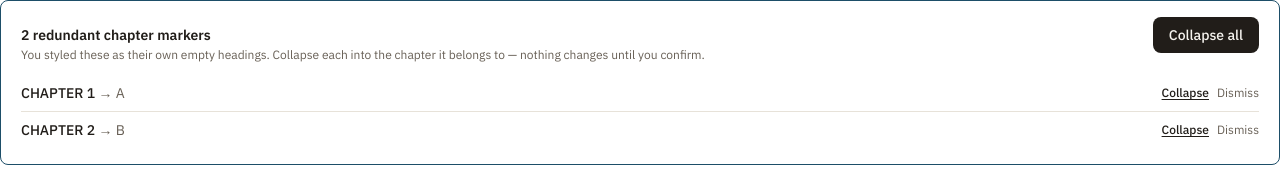
it: CleanupSuggestionsPanel (STRUCTURE_CLEANUP) › A1: an in-flight collapse changes ONLY its own button — the others stay live
The image size is (1280, 182).
Check: the text "CHAPTER 1" is shown, box [21,84,95,102]
What coordinates should you click on to do the following:
click the button "Collapse" in the row of "CHAPTER 1"
I would click on:
 (1185, 93)
Its box is [1162,85,1209,101].
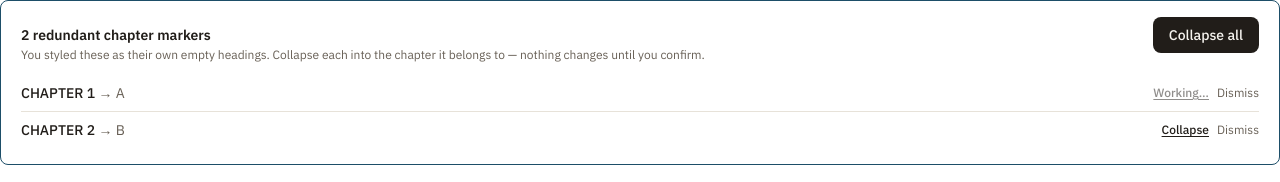
Check: the button "Collapse" is enabled, box [1162,122,1209,138]
Check: the button "Working…" is disabled, box [1153,85,1209,101]
